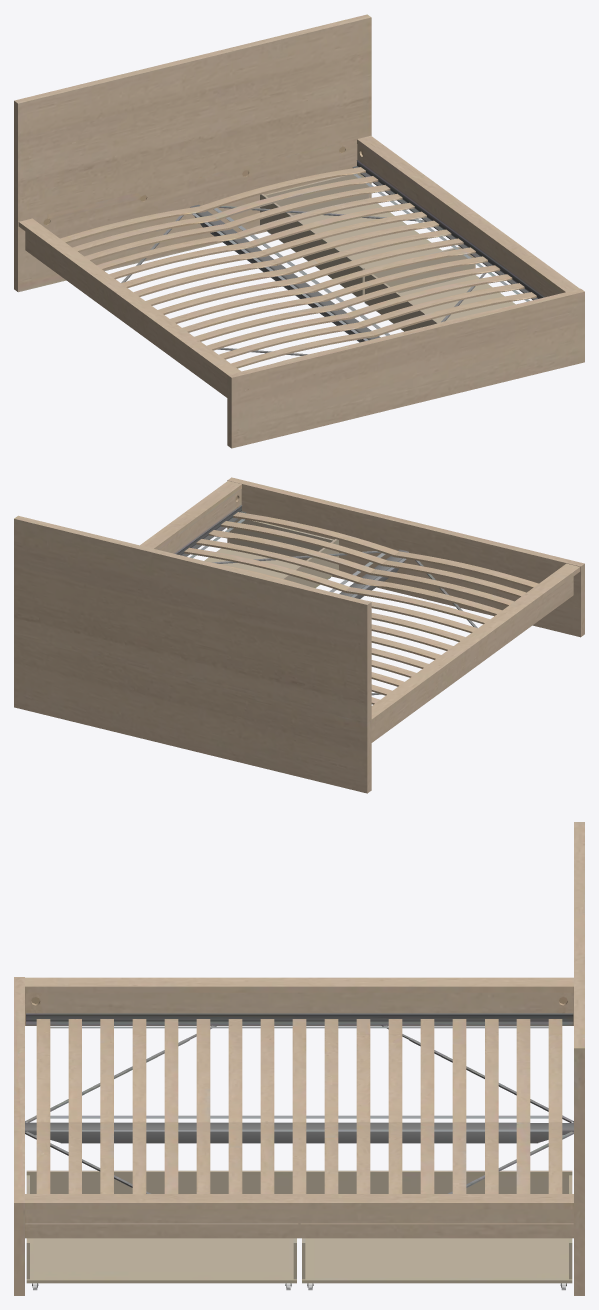
3 views of the same model, one above another, from view 1: azimuth 30°, elevation 25°; view 2: azimuth 150°, elevation 25°; view 3: azimuth 270°, elevation 25° (orthographic). The views are drawn at different scales.
Visible parts, largest first — view 1: Mesh_1.001; view 2: Mesh_1.001; view 3: Mesh_1.001.
Boxes of the visible parts, left/top/right/bottom form: Mesh_1.001: left=14, top=14, right=584, bottom=448; Mesh_1.001: left=14, top=477, right=584, bottom=793; Mesh_1.001: left=14, top=822, right=584, bottom=1295.
Bounding box in the file's own units: 1.96 × 0.9995 × 2.09.
Materials: 2 (1 with a texture image).
